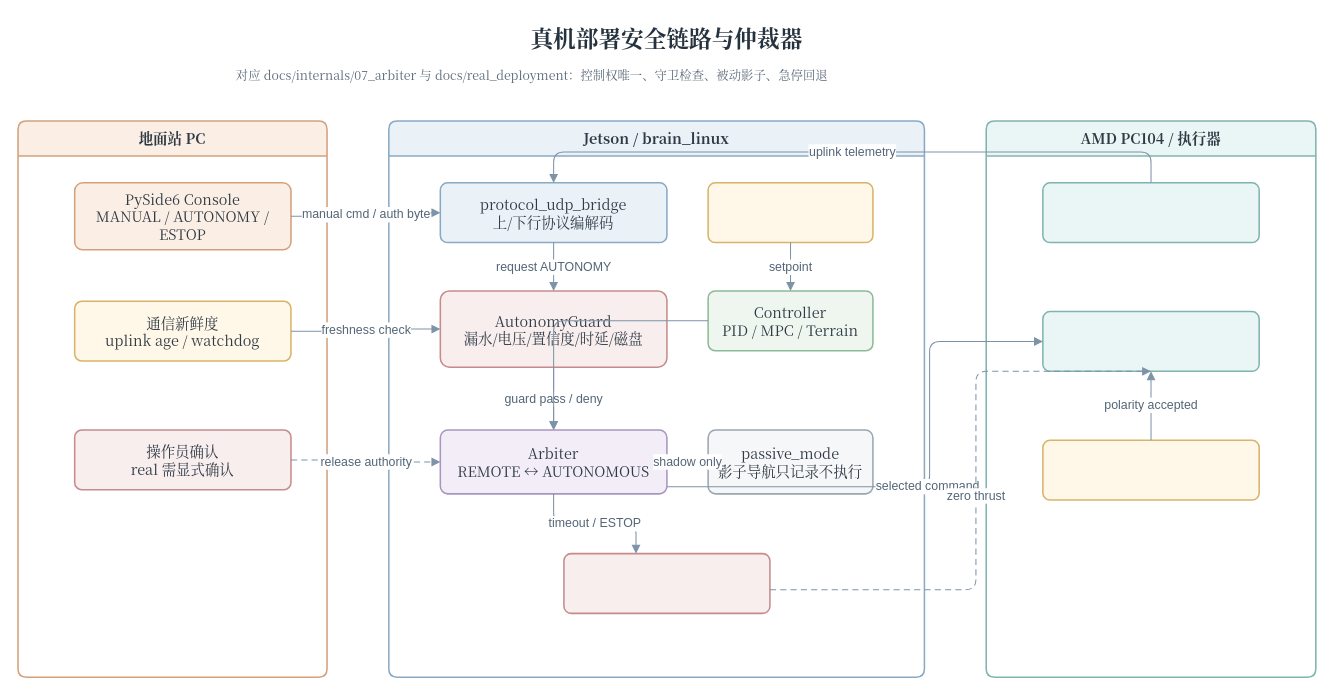
Some shapes in this 1335 by 695 pixel diagram are drawn without their labels. Here are the shapes that lost their labels. From the top down, the centre of each, then its label:
At point (790, 212): "Decision BT 任务目标 / Setpoint".
At point (1150, 212): "AMD 上行 传感器/状态/健康".
At point (1150, 341): "5 路控制输出 4 舵 + 推力".
At point (1150, 469): "执行器极性/死区 S2 静态验证".
At point (666, 583): "Safety fallback 零推力 / 锁回 REMOTE".
